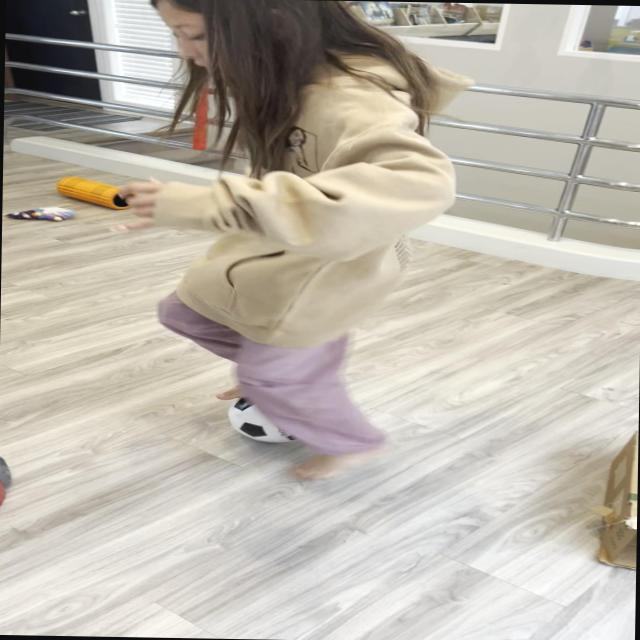Soccer Ball: (227, 388, 320, 442)
